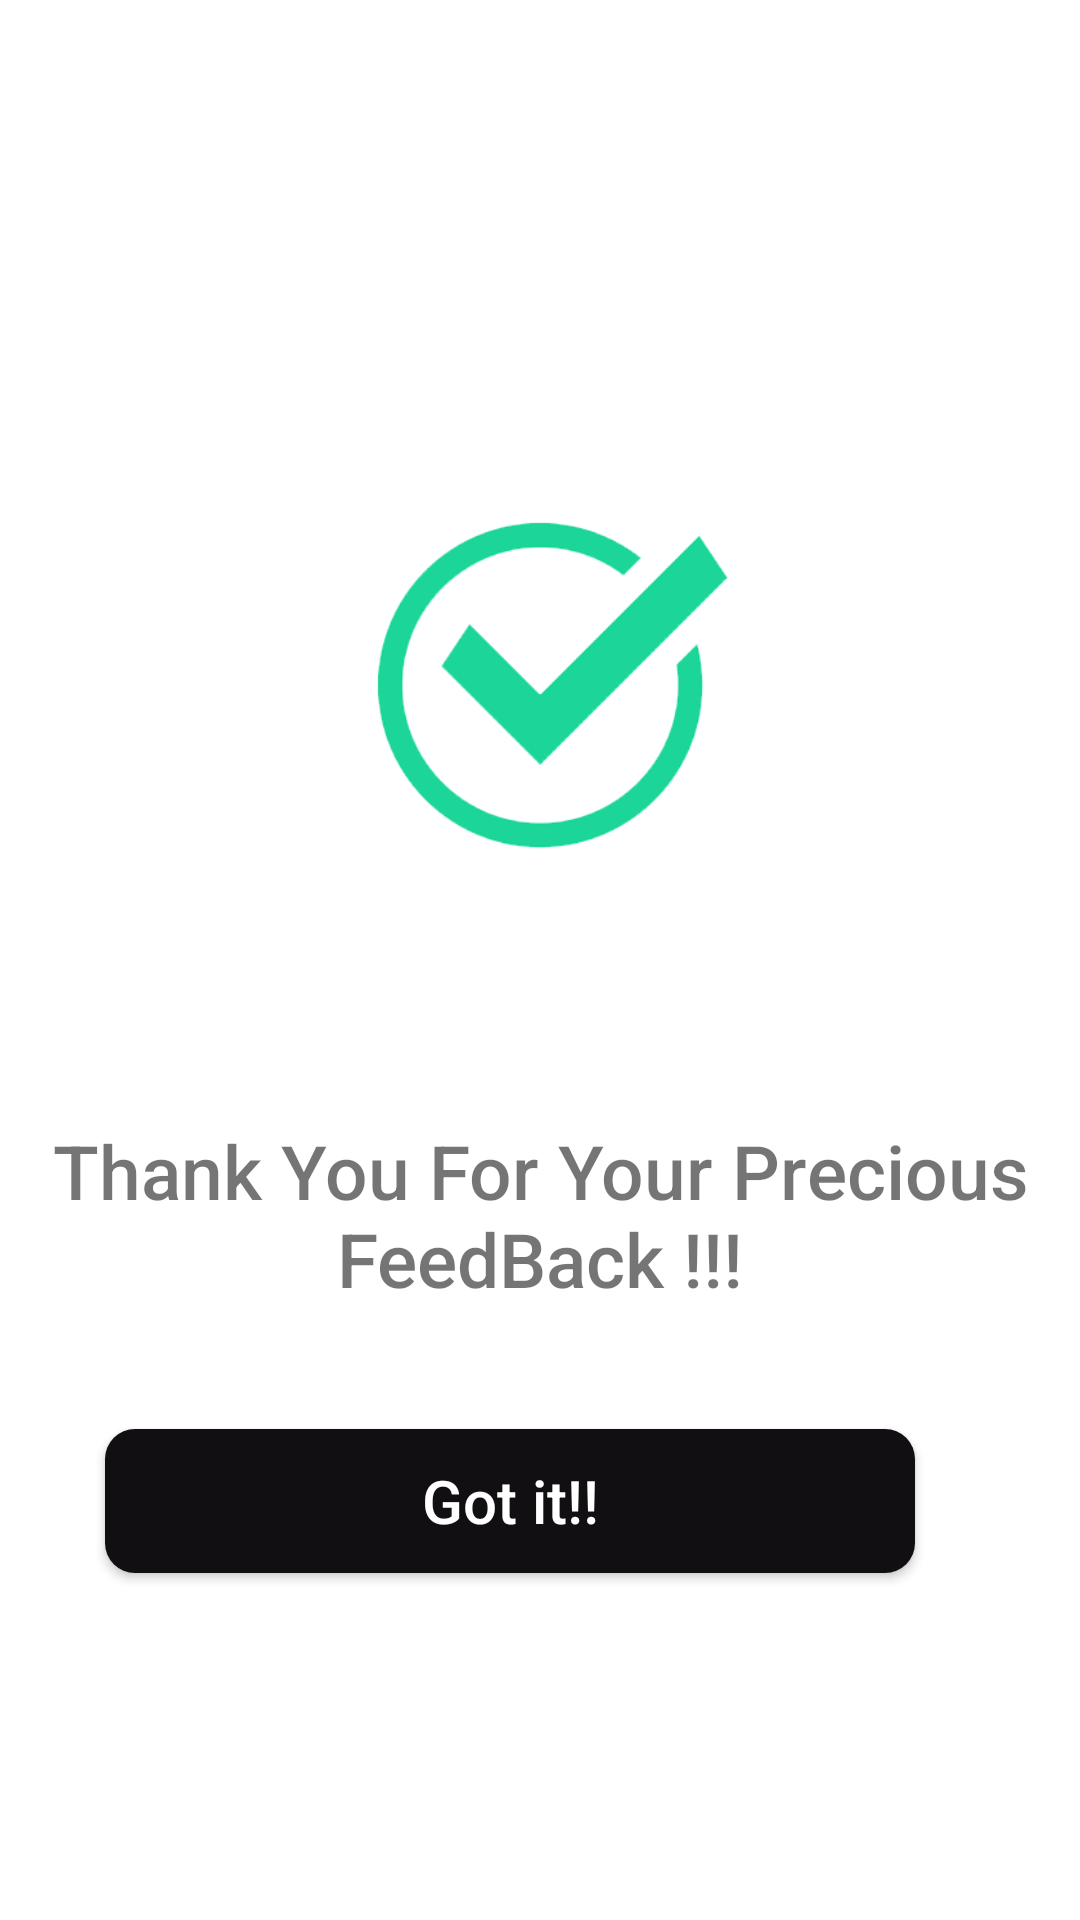

Where to tap for icons on this 1080*1920 app screen, as point (x, y):
confirm: point (552, 685)
